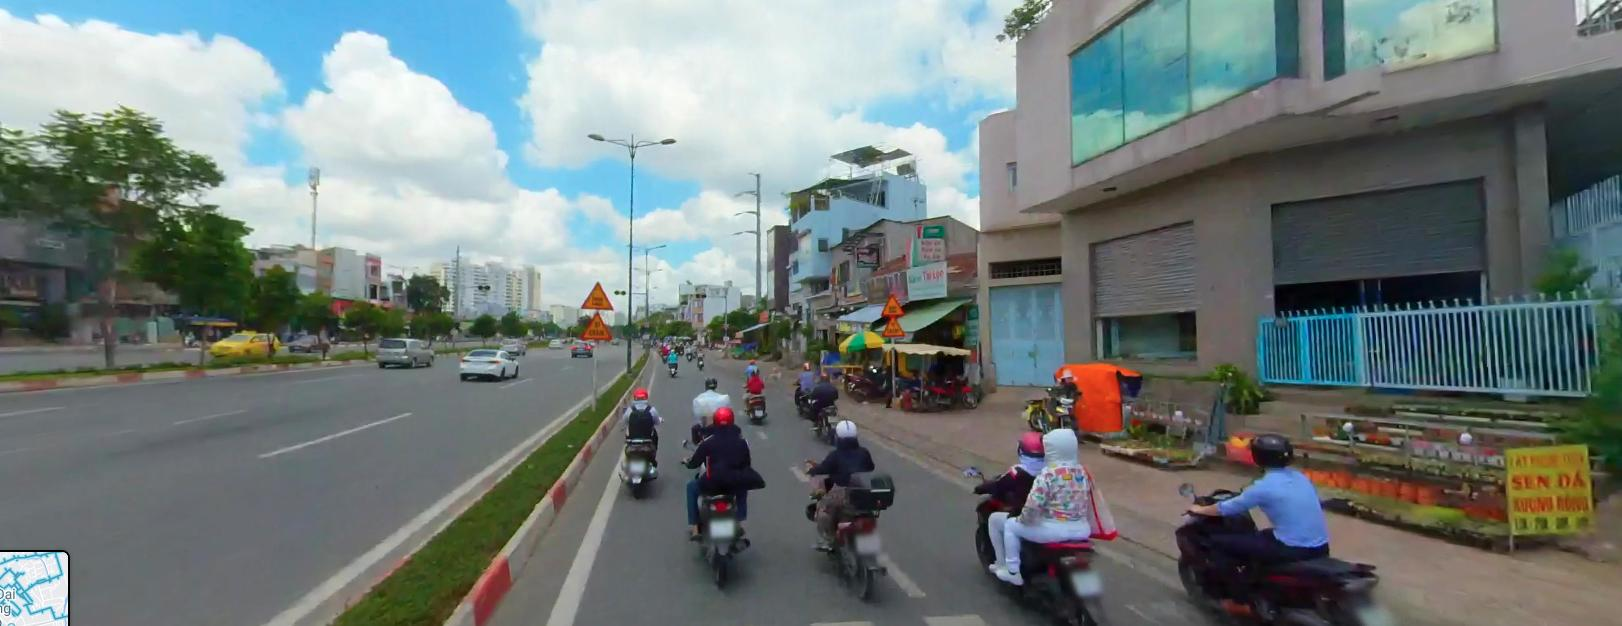Nguy hiem: (580, 278, 614, 309), (579, 311, 614, 339), (881, 293, 905, 315), (881, 316, 905, 336)
